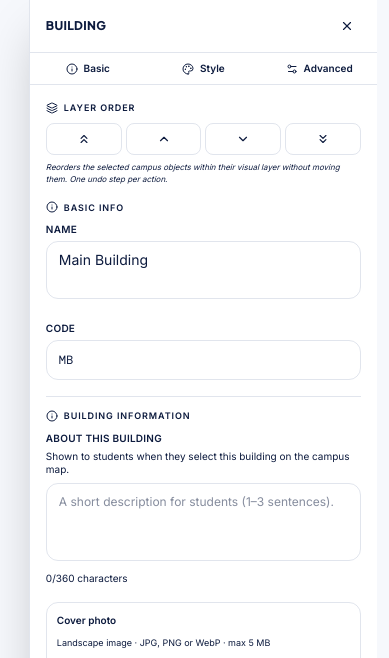
Test: Building Navigation summary and identity drafts › aggregates authored outdoor links independently from Primary Entrance and counts indoor links
This screenshot has width=389, height=658.
Click the button "Advanced". click: (319, 68)
box: [261, 53, 377, 84]
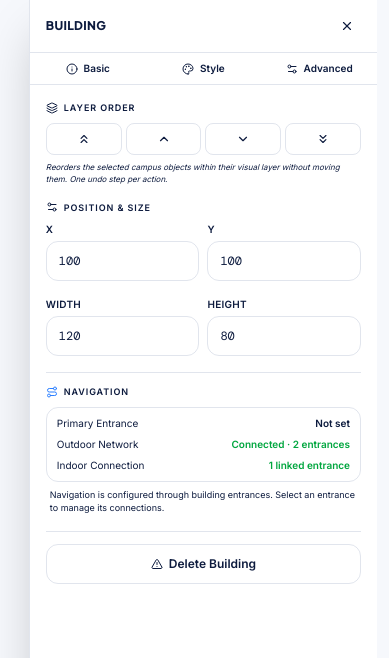
Now the text "Not set" is shown, box [315, 416, 350, 430]
Now the text "Connected · 2 entrances" is shown, box [232, 436, 350, 452]
Now the text "1 linked entrance" is shown, box [269, 458, 350, 472]
